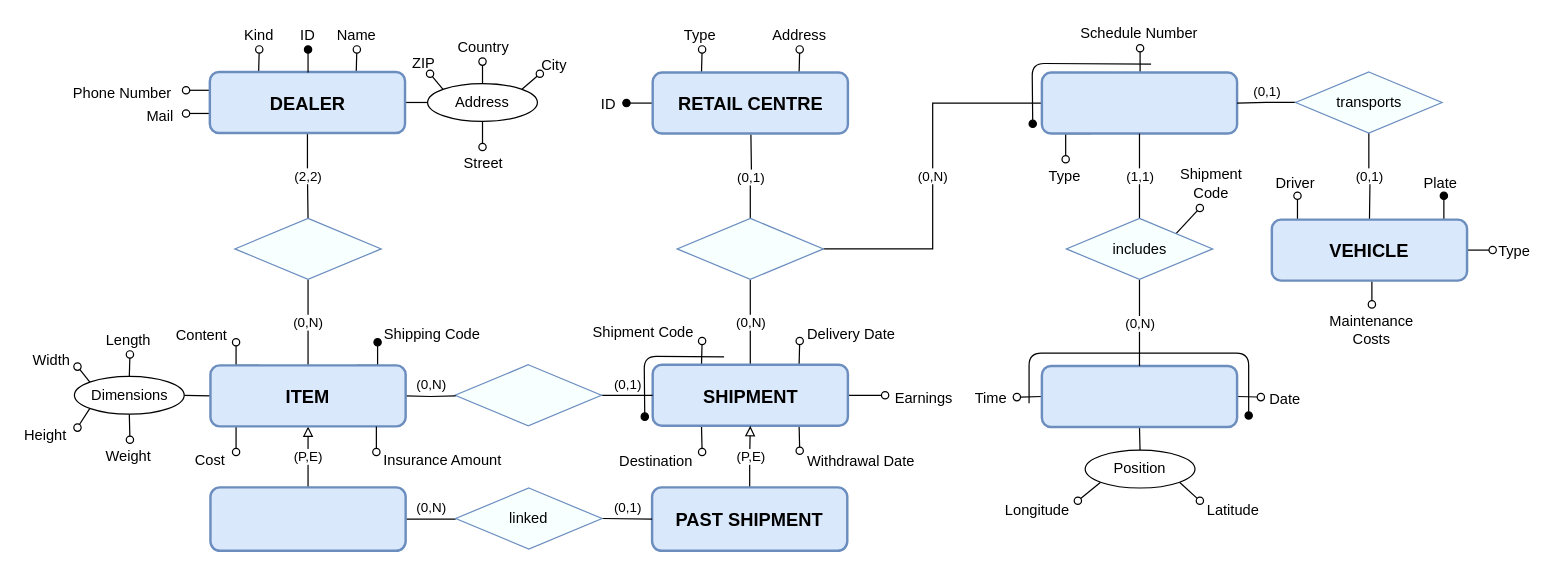
Image size: 1560x572. Some labels were removed from this diagram. The shapes that lost their labels are listed below. From the top down, each one's centre as x and y in pixels, then its label:
(1139,102): TRANSPORTATION EVENT
(307,248): deals
(750,248): provides
(527,395): regards
(1139,396): DELIVERY ROUTE
(307,518): SHIPPED ITEM
